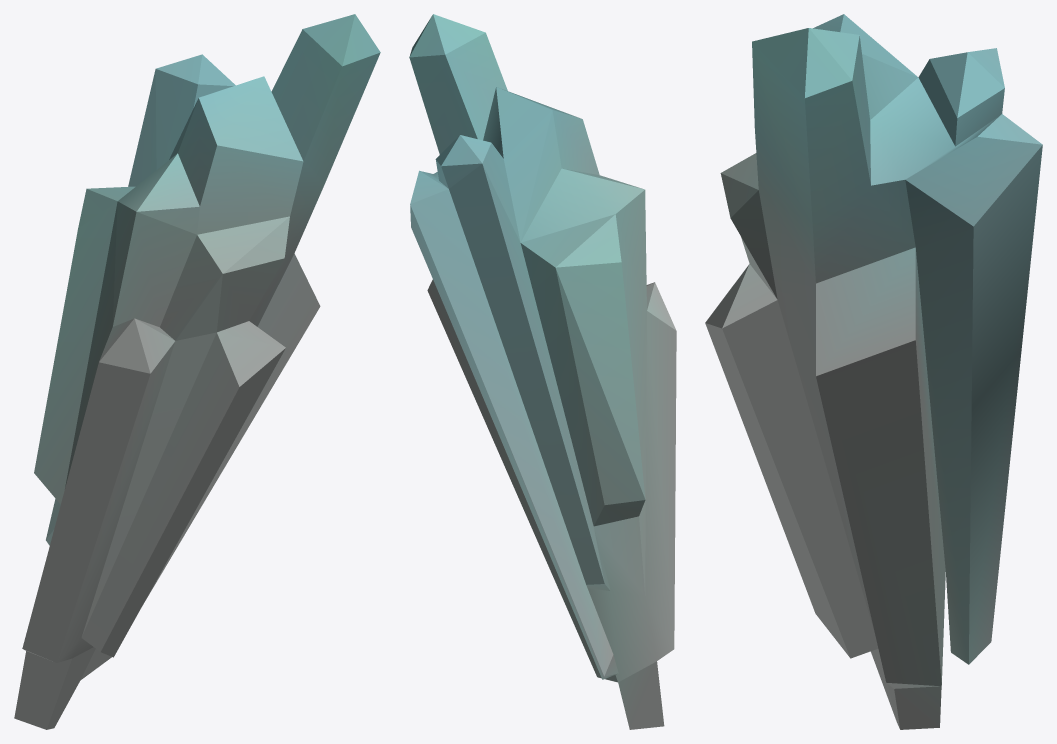
3 renders of one model, left to right at view 1: azimuth 30°, elevation 25°; view 2: azimuth 150°, elevation 25°; view 3: azimuth 270°, elevation 25°, orthographic. The views are drawn at different scales.
Parts seen in each view (by area): view 1: G:\FFXIV-MapTools\exports\l1f1\bg\ffxiv\lak_l1\fld\l1f1\bgpa; view 2: G:\FFXIV-MapTools\exports\l1f1\bg\ffxiv\lak_l1\fld\l1f1\bgpa; view 3: G:\FFXIV-MapTools\exports\l1f1\bg\ffxiv\lak_l1\fld\l1f1\bgpa.
Part boxes in pixels (<box>): G:\FFXIV-MapTools\exports\l1f1\bg\ffxiv\lak_l1\fld\l1f1\bgpa: <box>14,14,380,729</box>; G:\FFXIV-MapTools\exports\l1f1\bg\ffxiv\lak_l1\fld\l1f1\bgpa: <box>409,14,676,729</box>; G:\FFXIV-MapTools\exports\l1f1\bg\ffxiv\lak_l1\fld\l1f1\bgpa: <box>705,14,1042,729</box>.
Size of the model in its own units: 1.92 by 3.85 by 1.36.
